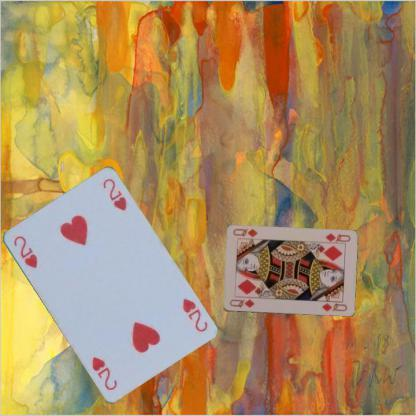2h: (179, 296, 209, 334), (10, 232, 39, 270)
Qd: (320, 232, 352, 246), (226, 297, 256, 309)
